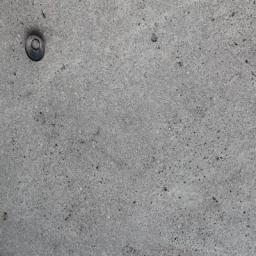FOD: (22, 33, 50, 65)
